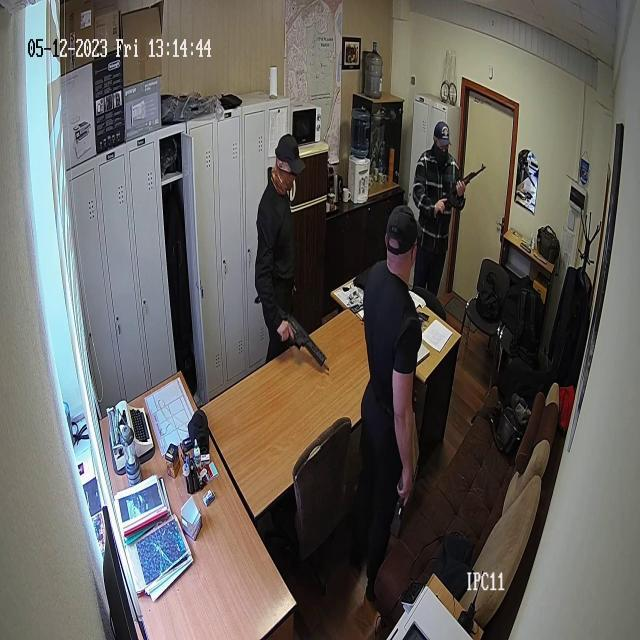pistol: (275, 298, 331, 379), (434, 162, 488, 206), (394, 468, 412, 522)
